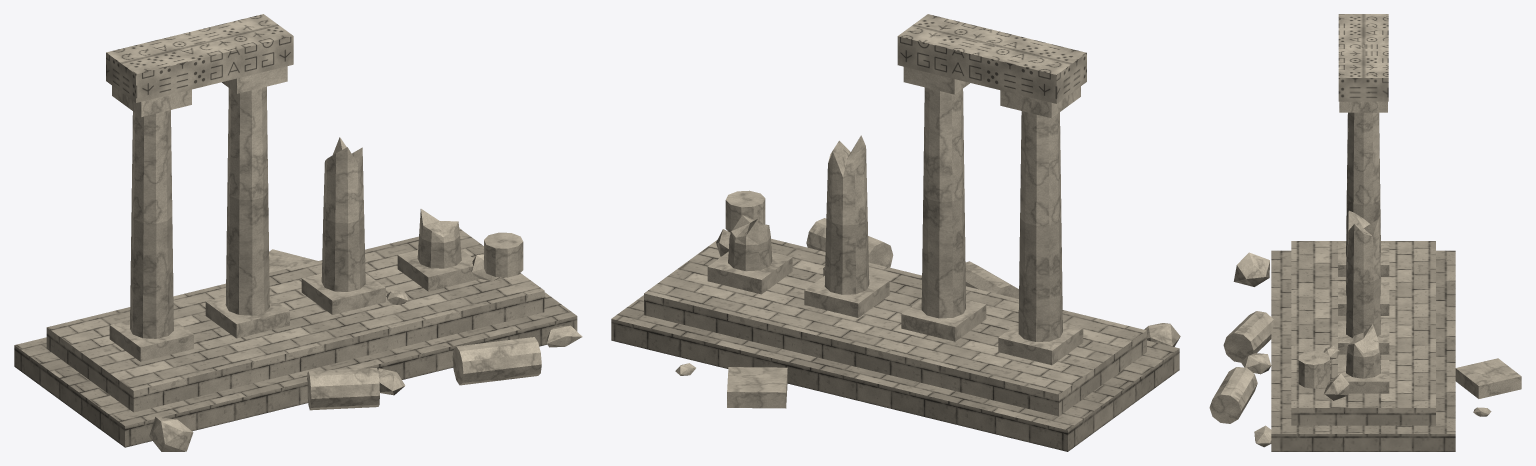
The model's file is ruin-columns.glb.
3 views of the same model, side by side, from view 1: azimuth 30°, elevation 25°; view 2: azimuth 150°, elevation 25°; view 3: azimuth 270°, elevation 25° (orthographic). The views are drawn at different scales.
Parts seen in each view (by area): view 1: ruin-columns; view 2: ruin-columns; view 3: ruin-columns.
Part boxes in pixels (box(x1,y1,x2,y2)): ruin-columns: box(14, 14, 582, 451); ruin-columns: box(611, 14, 1180, 451); ruin-columns: box(1209, 14, 1521, 451).
Size of the model in its own units: 6.6 by 4.62 by 4.74.
Materials: 3 (3 with a texture image).
